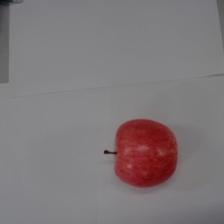red: (103, 116, 179, 191)
